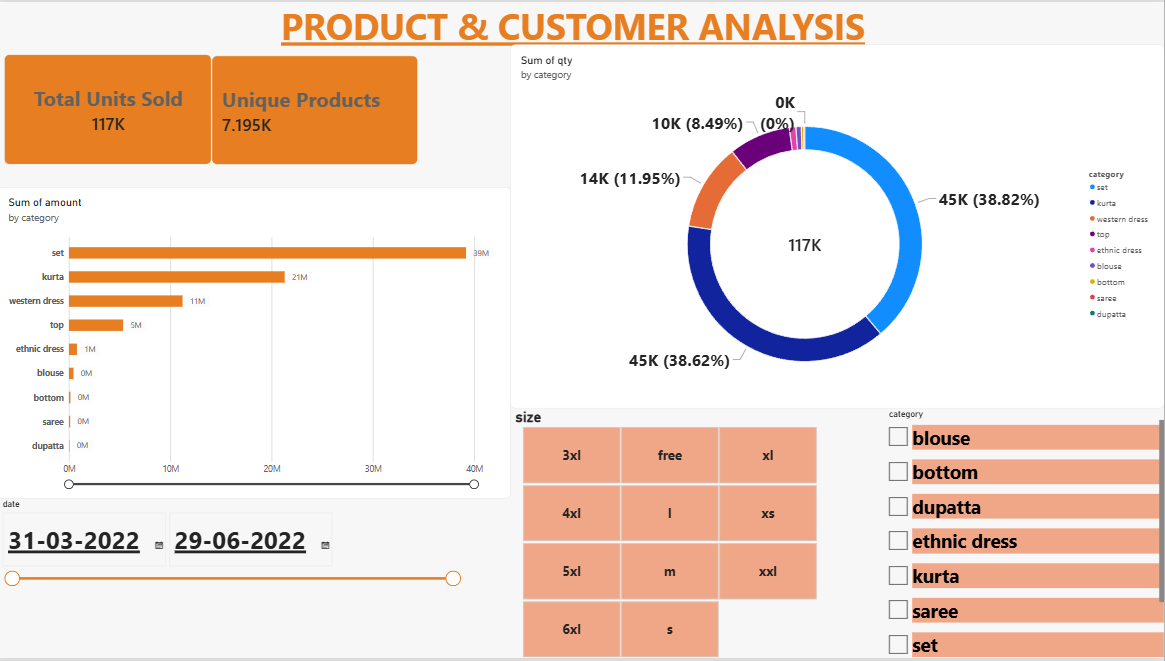

What the dashboard file says about the page in this screenshot:
{"tool":"powerbi","page":{"name":"Page 2","canvas":[1920,1080],"ordinal":1},"visuals":[{"type":"textbox","box":[10.3,0,1873.1,140],"z":0},{"type":"cardVisual","fields":{"Data":["Sum(Sheet1.qty)"]},"box":[10.3,86.4,341.7,181.1],"z":1},{"type":"cardVisual","fields":{"Data":["Count(Sheet1.sku)"]},"box":[352,88.5,339.6,179.1],"z":2},{"type":"clusteredBarChart","fields":{"Category":["Sheet1.category"],"Y":["Sum(Sheet1.amount)"]},"box":[0,304.6,843.9,512.5],"z":3},{"type":"donutChart","fields":{"Category":["Sheet1.category"],"Y":["Sum(Sheet1.qty)"]},"box":[843.9,70,1076.5,599],"z":4},{"type":"slicer","fields":{"Values":["Sheet1.date"]},"box":[0,817.2,765.7,263.5],"z":5},{"type":"slicer","fields":{"Values":["Sheet1.size"]},"box":[843.9,669,522.8,411.7],"z":6},{"type":"slicer","fields":{"Values":["Sheet1.category"]},"box":[1459.4,669,461.1,411.7],"z":7}]}

Visuals, with their boxes in screenshot pixels (x1, y1, x2, y2), scaled from the page's 1920x1080 canvas onto the 1165x661 screenshot:
textbox: Rect(6, 0, 1143, 86)
cardVisual - Sum(Sheet1.qty): Rect(6, 53, 214, 164)
cardVisual - Count(Sheet1.sku): Rect(214, 54, 420, 164)
clusteredBarChart - Sheet1.category x Sum(Sheet1.amount): Rect(0, 186, 512, 500)
donutChart - Sheet1.category x Sum(Sheet1.qty): Rect(512, 43, 1164, 409)
slicer - Sheet1.date: Rect(0, 500, 465, 660)
slicer - Sheet1.size: Rect(512, 409, 829, 660)
slicer - Sheet1.category: Rect(886, 409, 1164, 660)
